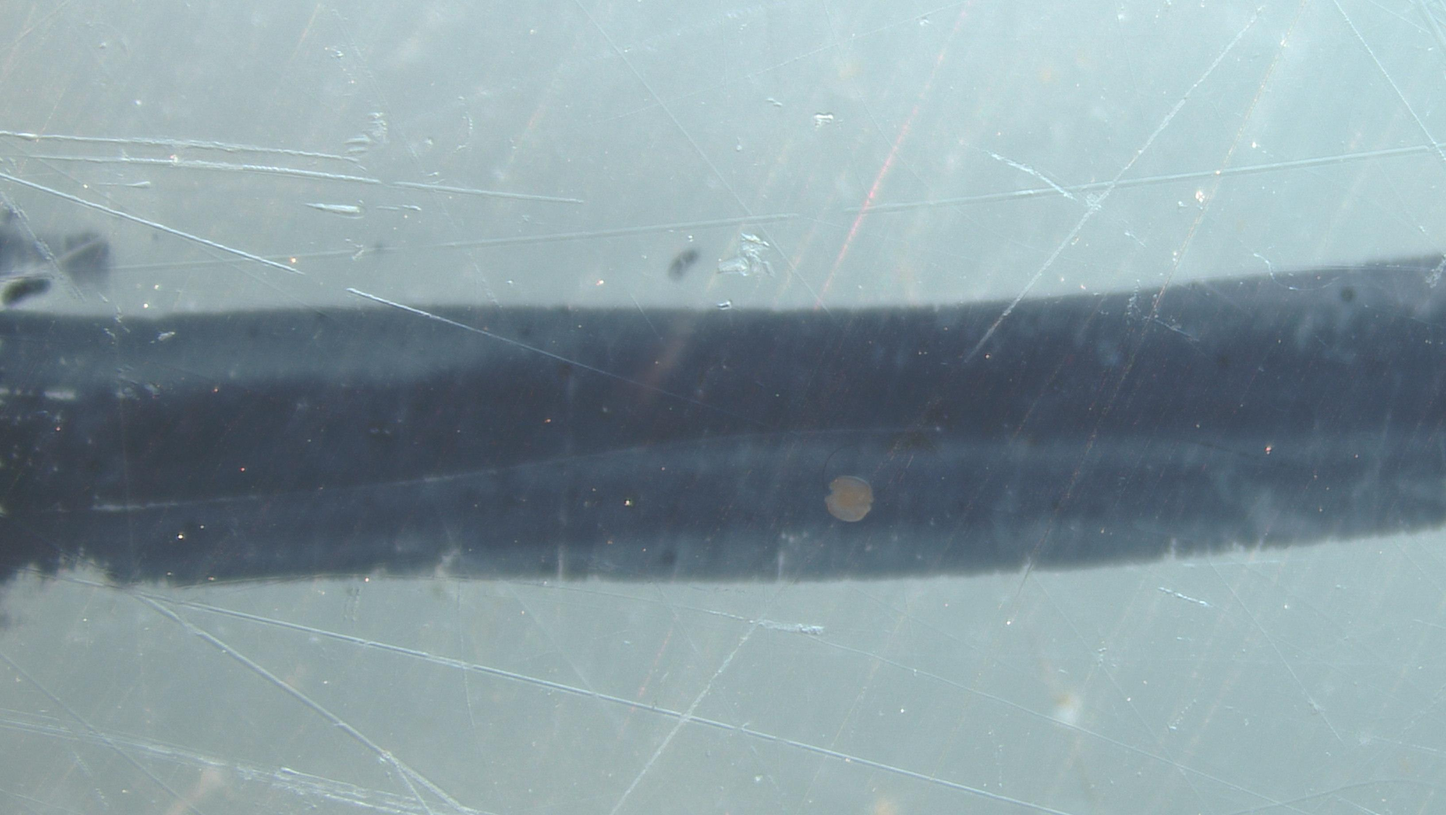live: (825, 476, 874, 523)
